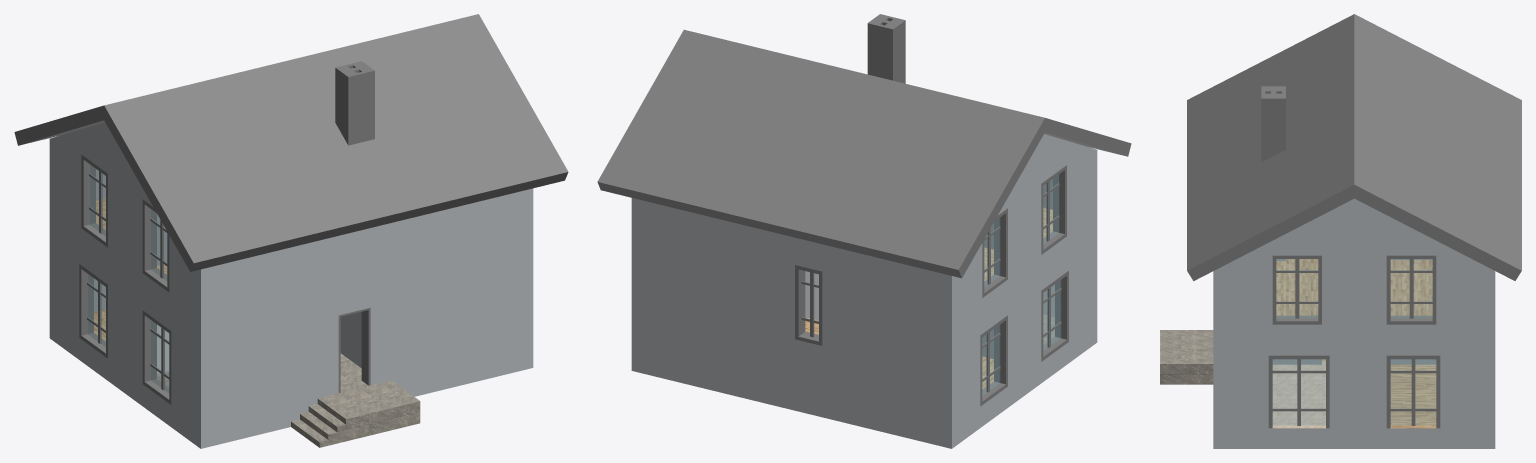
The model's file is house.glb.
3 views of the same model, side by side, from view 1: azimuth 30°, elevation 25°; view 2: azimuth 150°, elevation 25°; view 3: azimuth 270°, elevation 25° (orthographic). The views are drawn at different scales.
Visible parts, largest first — view 1: F1, roof, Air Top, Body17, Body84, Body87, Body31, Main Door, F1 Bathroom Window (1), F1 Bathroom Window, Body88, Body86; view 2: F1, roof, Air Top, Body17, Body84, Body73, Body31, Body87, F1 Bathroom Window (1), F1 Bathroom Window, Body86, Body88; view 3: roof, F1, Terrace Door, Terrace Window, Body90, Body92, Body91, Air Top, Body89, Body66, Body58.
Boxes of the visible parts, x1,y1,x2,y2 form: F1: (49,122,533,448); roof: (14,14,568,271); Air Top: (335,61,374,145); Body17: (142,310,171,404); Body84: (79,264,107,358); Body87: (81,154,107,247); Body31: (142,199,169,292); Main Door: (338,307,370,392); F1 Bathroom Window (1): (87,274,105,346); F1 Bathroom Window: (151,320,168,392); Body88: (89,165,105,235); Body86: (151,209,166,280); F1: (631,134,1097,448); roof: (597,29,1131,278); Air Top: (867,14,905,83); Body17: (1041,271,1068,361); Body84: (980,315,1007,406); Body73: (795,265,822,345); Body31: (1041,165,1066,254); Body87: (982,208,1007,297); F1 Bathroom Window (1): (982,325,999,395); F1 Bathroom Window: (1043,280,1060,350); Body86: (1043,175,1058,243); Body88: (984,218,999,286); roof: (1187,14,1521,281); F1: (1160,198,1495,448); Terrace Door: (1273,359,1325,425); Terrace Window: (1391,359,1435,425); Body90: (1276,259,1317,317); Body92: (1391,259,1432,317); Body91: (1386,255,1436,324); Air Top: (1261,86,1285,162); Body89: (1272,255,1321,324); Body66: (1386,355,1440,428); Body58: (1268,355,1329,428).
Bounding box in the file's own units: 10.6 × 8.4 × 9.49.
Materials: 6 (1 with a texture image).
